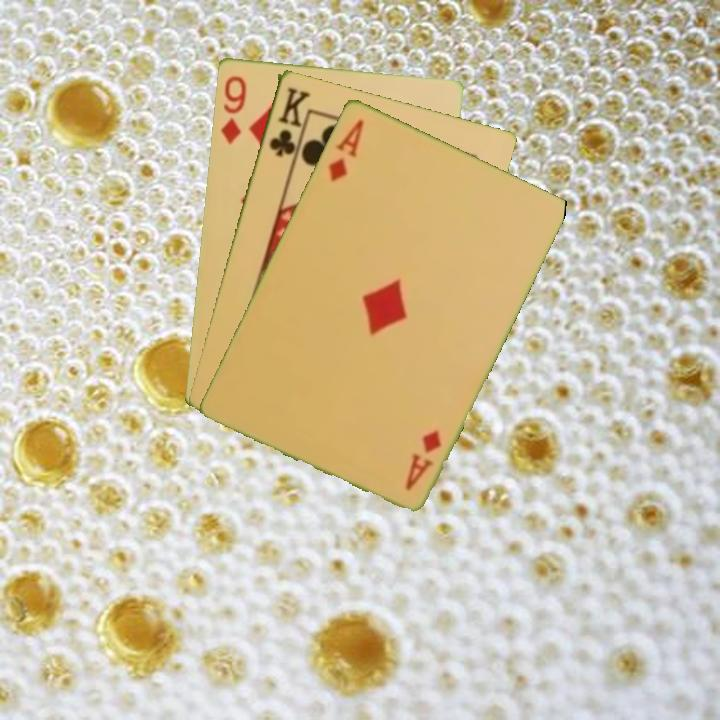9d: (216, 71, 249, 147)
Ad: (324, 115, 367, 184), (401, 425, 444, 493)
Kc: (265, 83, 312, 159)
